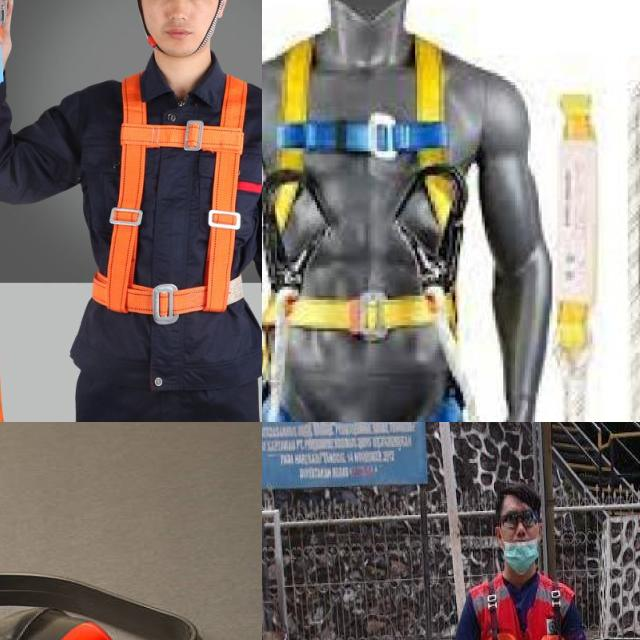Ear-protection: (0, 569, 235, 640)
Harness: (262, 26, 481, 422), (87, 75, 262, 322)
person: (416, 467, 633, 640)
vest: (466, 568, 586, 640)
